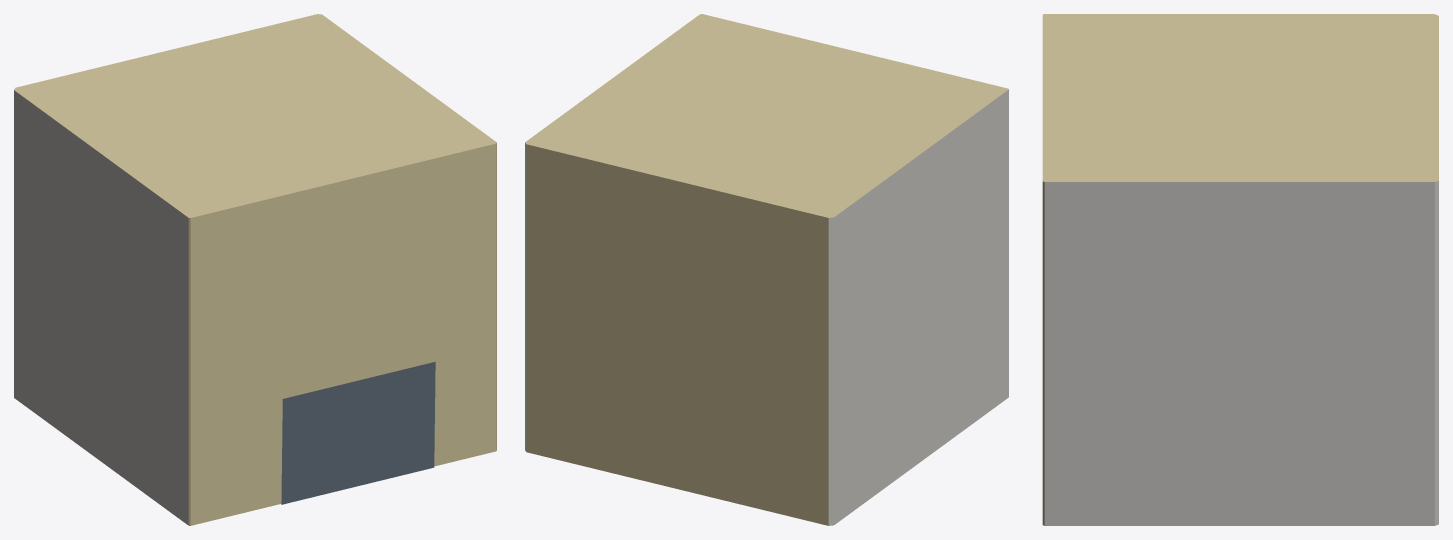
File: loin-etape-1.glb
3 renders of one model, left to right at view 1: azimuth 30°, elevation 25°; view 2: azimuth 150°, elevation 25°; view 3: azimuth 270°, elevation 25°, orthographic. The views are drawn at different scales.
Visible parts, largest first — view 1: loin; view 2: loin; view 3: loin.
Part boxes in pixels (left/top/right/bottom): loin: left=14, top=14, right=496, bottom=525; loin: left=525, top=14, right=1008, bottom=525; loin: left=1042, top=14, right=1438, bottom=525.
Size of the model in its own units: 0.5978 by 0.57 by 0.6035.
